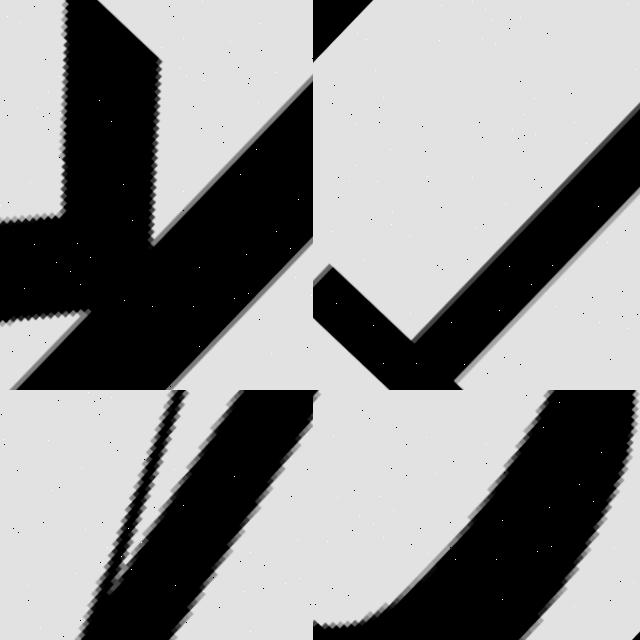I: (313, 0, 640, 390)
K: (0, 0, 313, 390)
O: (313, 390, 640, 640)
V: (0, 390, 313, 640)
